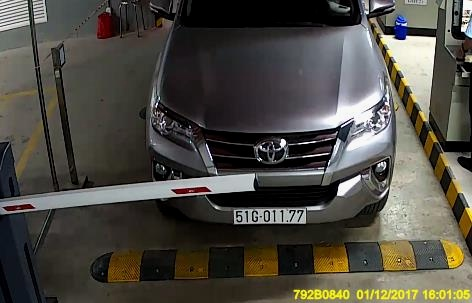plate: (232, 206, 308, 224)
